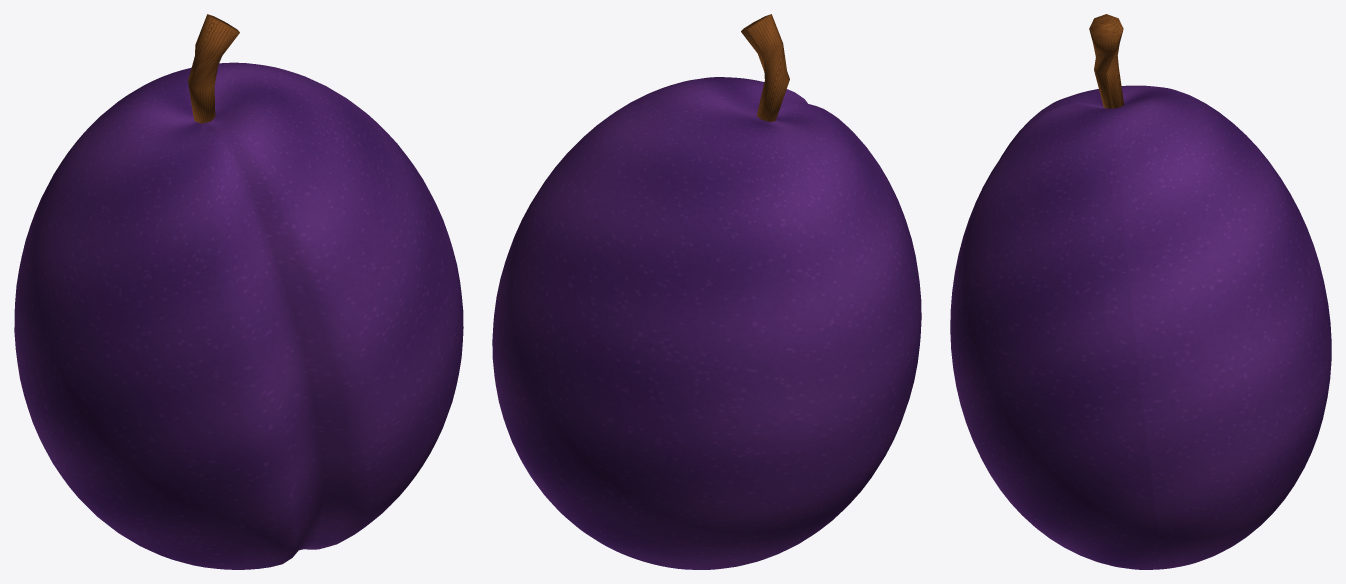
The model's file is plum.glb.
3 views of the same model, side by side, from view 1: azimuth 30°, elevation 25°; view 2: azimuth 150°, elevation 25°; view 3: azimuth 270°, elevation 25° (orthographic). The views are drawn at different scales.
Visible parts, largest first — view 1: plum-mesh; view 2: plum-mesh; view 3: plum-mesh.
Part boxes in pixels (bbox=[...]): plum-mesh: bbox=[14, 14, 463, 569]; plum-mesh: bbox=[492, 14, 921, 569]; plum-mesh: bbox=[950, 14, 1331, 569].
Bounding box in the file's own units: 0.0533 × 0.0721 × 0.0486.
2 materials, 2 textured.
